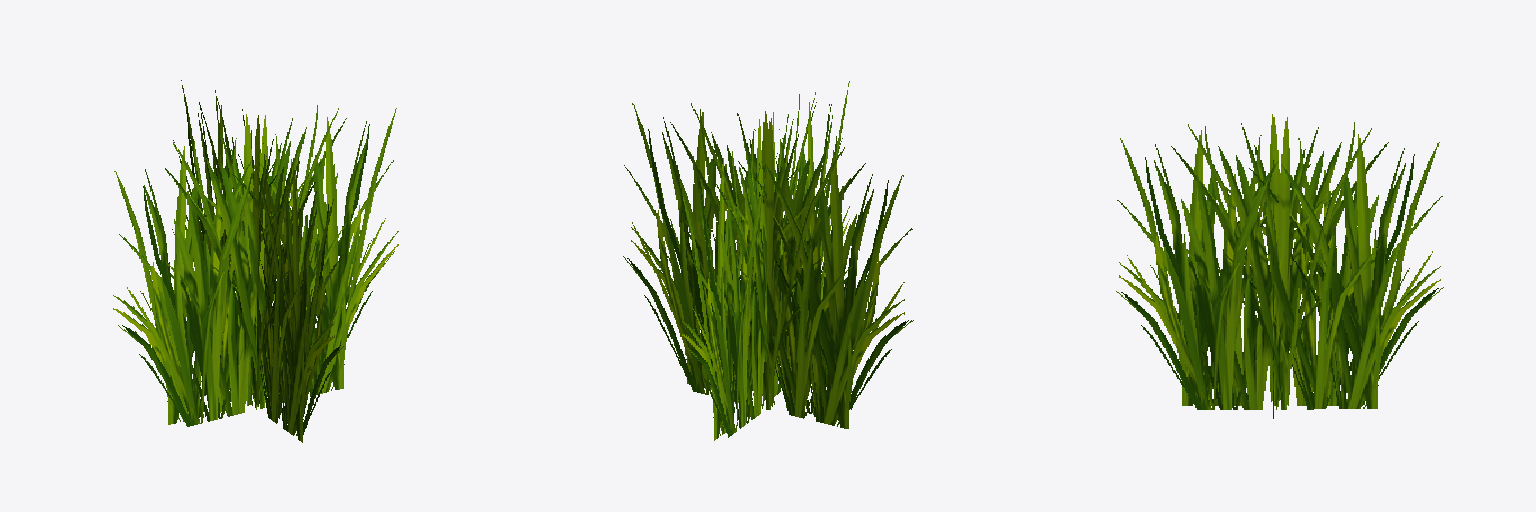
3 views of the same model, side by side, from view 1: azimuth 30°, elevation 25°; view 2: azimuth 150°, elevation 25°; view 3: azimuth 270°, elevation 25° (orthographic).
Visible parts, largest first — view 1: Plane.002_Plane.004, Plane.003_Plane.005, Plane.001_Plane.003, Plane; view 2: Plane.001_Plane.003, Plane.003_Plane.005, Plane.002_Plane.004, Plane; view 3: Plane, Plane.003_Plane.005.
Boxes of the visible parts, <box> form: Plane.002_Plane.004: <box>118,108,398,426</box>; Plane.003_Plane.005: <box>172,96,334,442</box>; Plane.001_Plane.003: <box>113,105,394,424</box>; Plane: <box>181,80,343,434</box>; Plane.001_Plane.003: <box>623,109,904,428</box>; Plane.003_Plane.005: <box>688,81,849,437</box>; Plane.002_Plane.004: <box>631,103,913,420</box>; Plane: <box>682,94,843,440</box>; Plane: <box>1116,117,1440,409</box>; Plane.003_Plane.005: <box>1119,114,1443,405</box>.
Bounding box in the file's own units: 2 × 2 × 2.
1 materials, 1 textured.